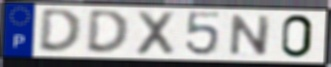0: (279, 13, 315, 60)
5: (183, 10, 223, 59)
D: (84, 9, 132, 57), (36, 8, 84, 56)
N: (226, 13, 274, 57)
X: (133, 9, 178, 58)
